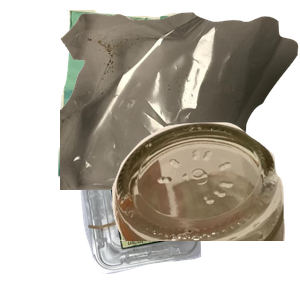glass: (89, 120, 300, 300)
paper: (55, 10, 255, 190)
plastic: (76, 151, 270, 300)
trash: (60, 10, 300, 190)
